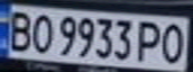3: (112, 16, 136, 62), (93, 15, 115, 60)
9: (54, 12, 78, 56), (72, 14, 96, 58)
B: (3, 8, 36, 52)
O: (157, 20, 190, 64), (27, 10, 57, 55)
P: (136, 18, 166, 63)
